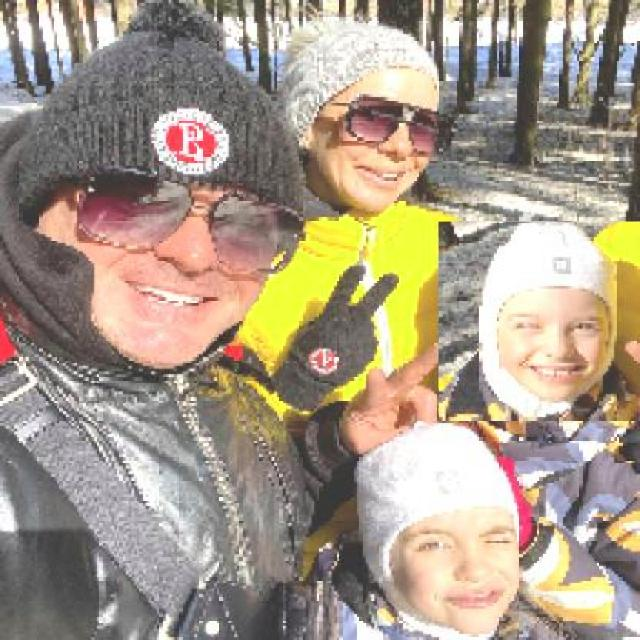child: (328, 416, 640, 638), (437, 222, 640, 422)
